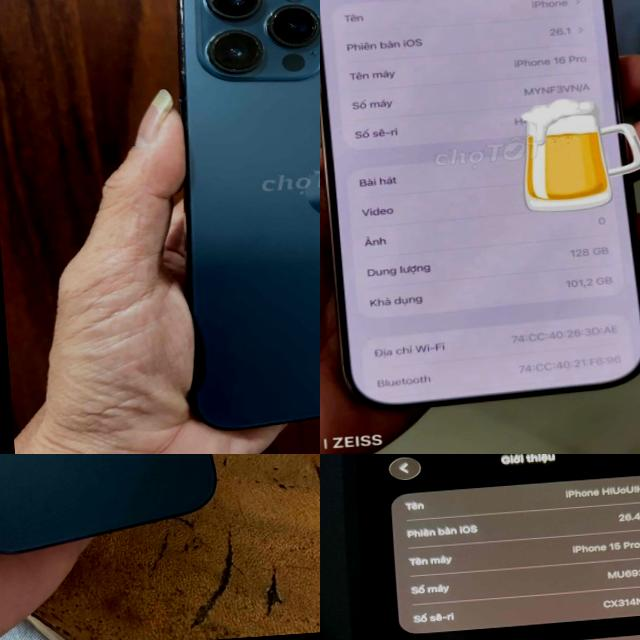gen_12_13: (154, 0, 320, 442)
gen_15: (351, 454, 640, 640), (0, 454, 231, 564)
gen_16: (320, 0, 640, 406)
